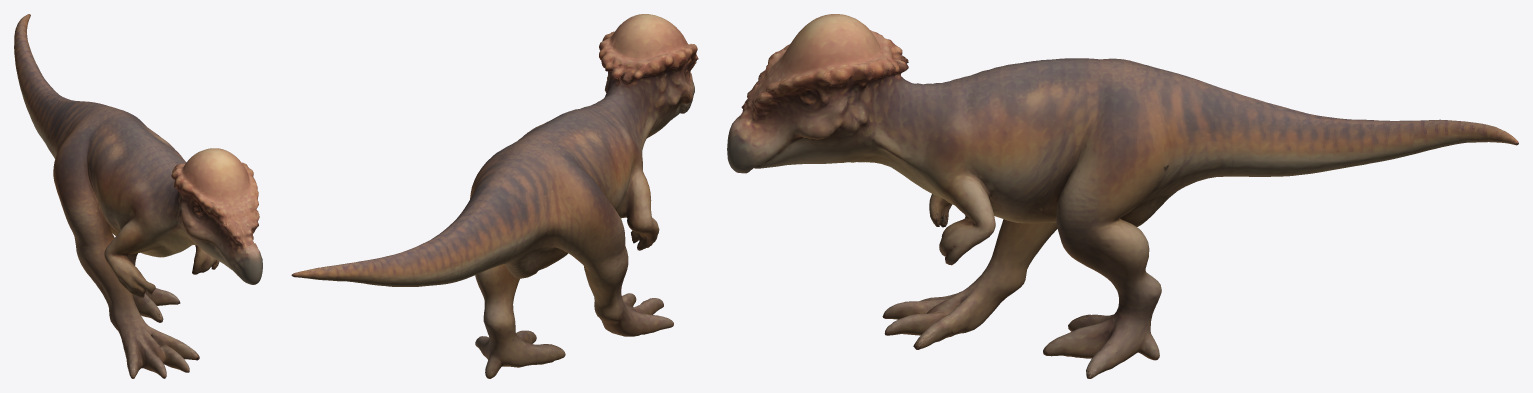
3 renders of one model, left to right at view 1: azimuth 30°, elevation 25°; view 2: azimuth 150°, elevation 25°; view 3: azimuth 270°, elevation 25°, orthographic. The views are drawn at different scales.
Parts seen in each view (by area): view 1: world; view 2: world; view 3: world.
Boxes of the visible parts, bbox=[...] form: world: bbox=[14, 14, 262, 378]; world: bbox=[291, 14, 698, 378]; world: bbox=[727, 14, 1518, 378].
Bounding box in the file's own units: 1.13 × 2.06 × 4.5.
Materials: 1 (1 with a texture image).
